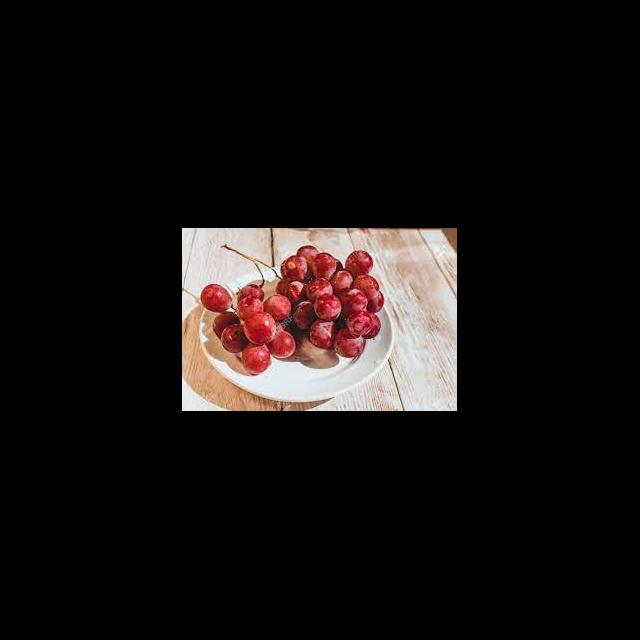grape: (200, 243, 384, 374)
